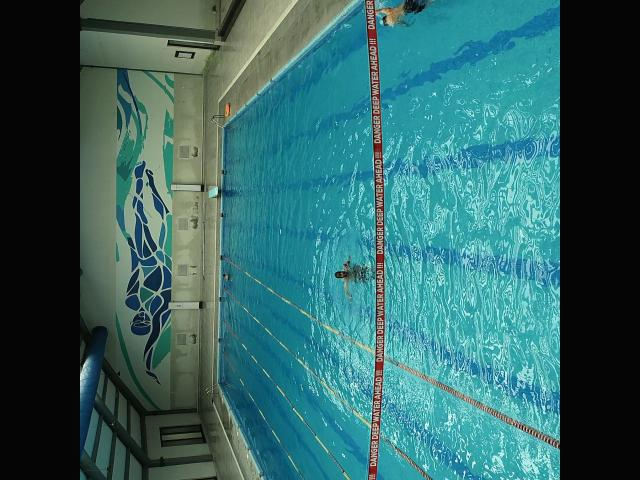swimming: (373, 0, 417, 27), (336, 264, 356, 282), (222, 272, 230, 280)
